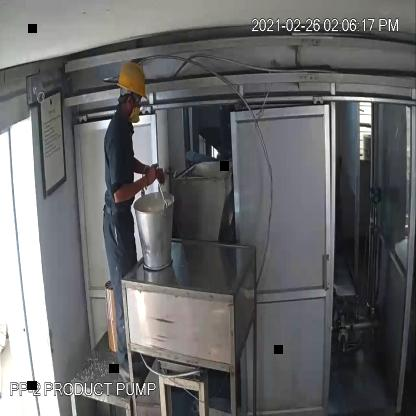helmet: (118, 60, 150, 102)
